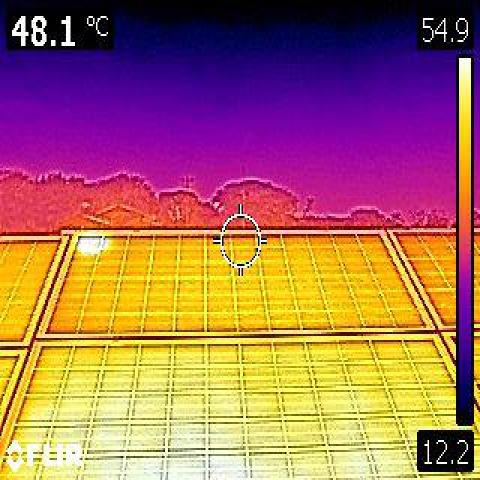fault: (80, 235, 99, 253)
